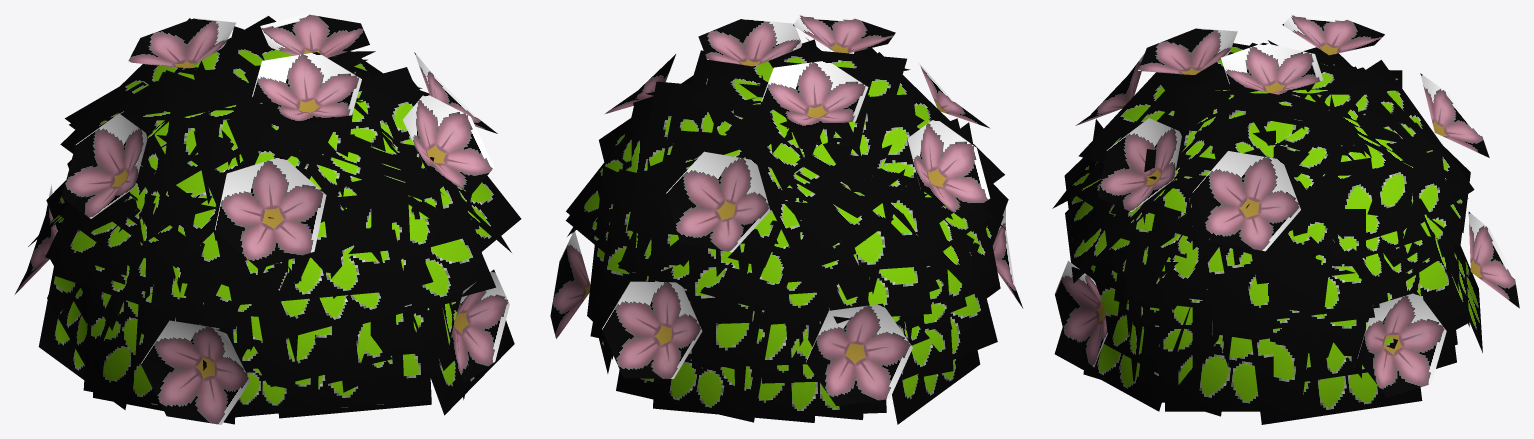
Rendered from q_Bush_Flowers.glb.
3 views of the same model, side by side, from view 1: azimuth 30°, elevation 25°; view 2: azimuth 150°, elevation 25°; view 3: azimuth 270°, elevation 25° (orthographic). The views are drawn at different scales.
Visible parts, largest first — view 1: Bush_Flowers_Plane.003; view 2: Bush_Flowers_Plane.003; view 3: Bush_Flowers_Plane.003.
Part boxes in pixels (x1=…): Bush_Flowers_Plane.003: x1=14, y1=14, x2=521, y2=424; Bush_Flowers_Plane.003: x1=550, y1=14, x2=1023, y2=424; Bush_Flowers_Plane.003: x1=1052, y1=14, x2=1519, y2=424.
Size of the model in its own units: 1.09 by 0.7586 by 1.11.
Materials: 2 (2 with a texture image).
